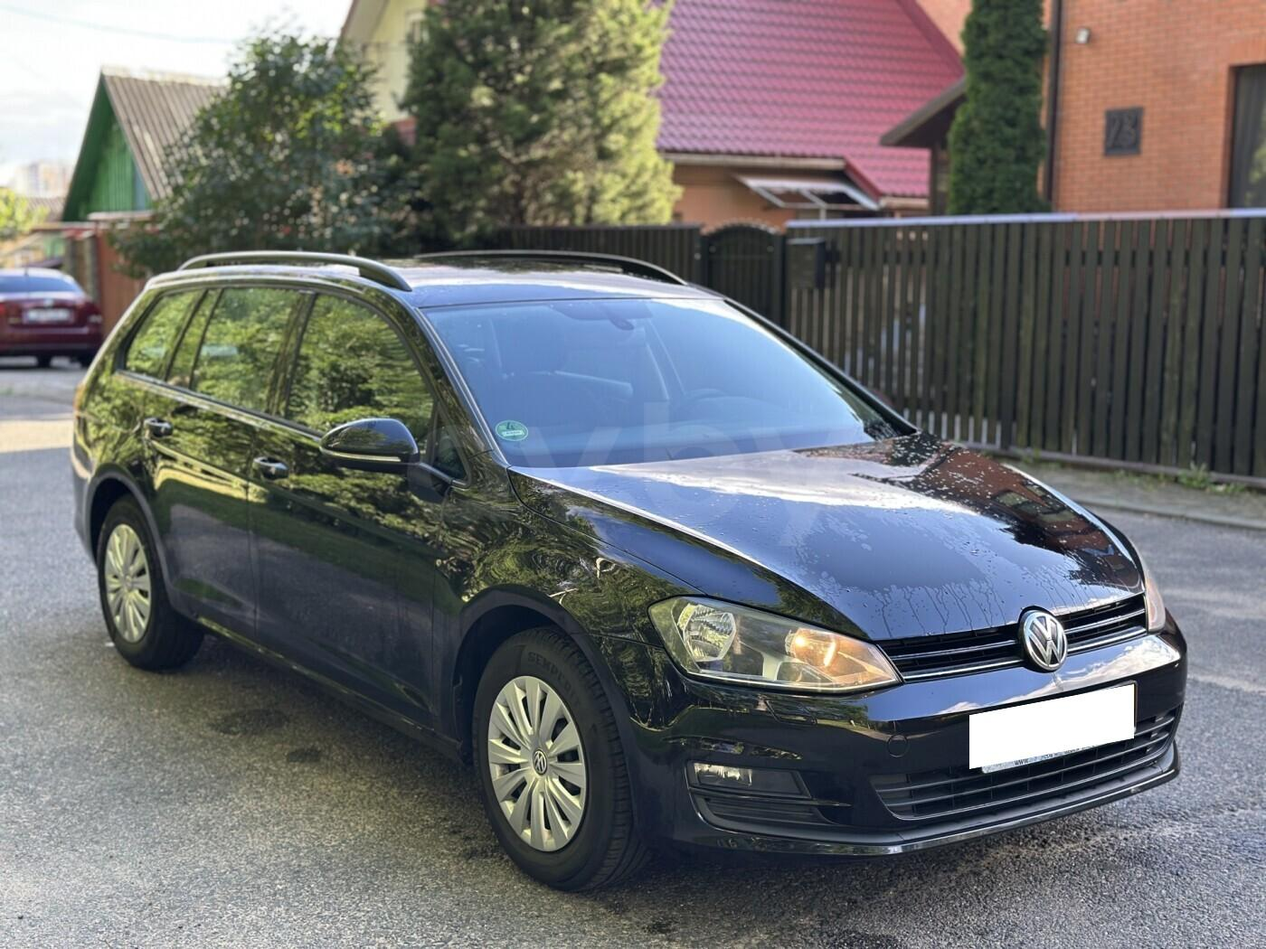Golf_2012-2017: (56, 246, 1196, 879)
